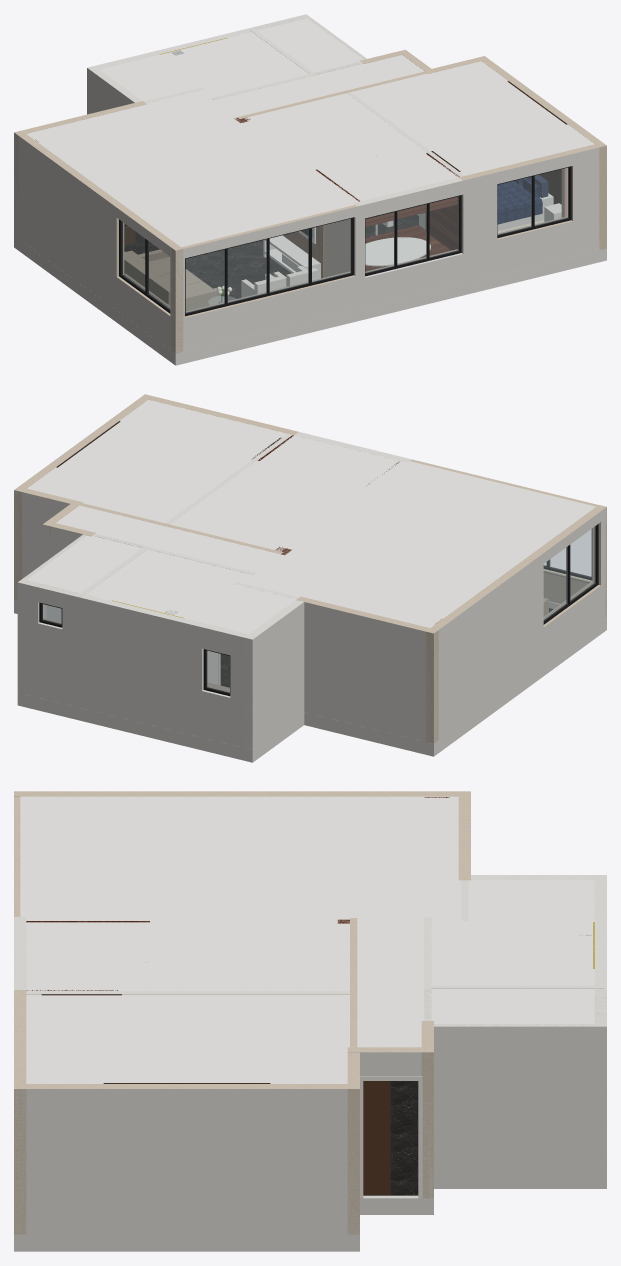
File: apartamento.glb
3 renders of one model, top to bottom at view 1: azimuth 30°, elevation 25°; view 2: azimuth 150°, elevation 25°; view 3: azimuth 270°, elevation 25°, orthographic. The views are drawn at different scales.
Parts seen in each view (by area): view 1: paredes, teto_sala, vidro_janelas, teto_suite, teto_spa, laje, teto_cozinha, esquadrias, teto_corredor, piso_sala, teto_banheiro, movel_sofa (+10 smaller); view 2: paredes, teto_sala, teto_suite, teto_spa, laje, teto_cozinha, teto_corredor, vidro_janelas, teto_banheiro, teto_lavanderia, esquadrias, rodapes; view 3: paredes, teto_sala, teto_suite, teto_spa, teto_cozinha, laje, teto_corredor, teto_banheiro, teto_lavanderia, piso_corredor, movel_porta_entrada, rodapes.
Boxes of the visible parts, x1=… form: paredes: x1=14, y1=14, x2=606, y2=353; teto_sala: x1=26, y1=90, x2=356, y2=247; vidro_janelas: x1=121, y1=168, x2=568, y2=312; teto_suite: x1=350, y1=61, x2=594, y2=175; teto_spa: x1=244, y1=93, x2=459, y2=202; laje: x1=14, y1=236, x2=606, y2=365; teto_cozinha: x1=156, y1=32, x2=308, y2=97; esquadrias: x1=119, y1=166, x2=571, y2=316; teto_corredor: x1=216, y1=55, x2=424, y2=116; piso_sala: x1=124, y1=223, x2=291, y2=300; teto_banheiro: x1=257, y1=18, x2=363, y2=72; movel_sofa: x1=124, y1=249, x2=220, y2=311; paredes: x1=14, y1=394, x2=606, y2=749; teto_sala: x1=239, y1=461, x2=595, y2=627; teto_suite: x1=27, y1=399, x2=287, y2=523; teto_spa: x1=170, y1=435, x2=402, y2=551; laje: x1=14, y1=600, x2=606, y2=762; teto_cozinha: x1=86, y1=549, x2=249, y2=619; teto_corredor: x1=56, y1=505, x2=277, y2=571; vidro_janelas: x1=42, y1=526, x2=595, y2=692; teto_banheiro: x1=27, y1=535, x2=141, y2=592; teto_lavanderia: x1=189, y1=584, x2=296, y2=633; esquadrias: x1=39, y1=524, x2=598, y2=696; rodapes: x1=43, y1=570, x2=592, y2=746; paredes: x1=14, y1=791, x2=606, y2=1234; teto_sala: x1=20, y1=796, x2=461, y2=919; teto_suite: x1=26, y1=994, x2=349, y2=1083; teto_spa: x1=26, y1=919, x2=349, y2=990; teto_cozinha: x1=431, y1=919, x2=594, y2=985; laje: x1=14, y1=1172, x2=606, y2=1251; teto_corredor: x1=357, y1=919, x2=423, y2=1047; teto_banheiro: x1=431, y1=989, x2=594, y2=1023; teto_lavanderia: x1=468, y1=880, x2=594, y2=919; piso_corredor: x1=363, y1=1081, x2=418, y2=1195; movel_porta_entrada: x1=363, y1=1081, x2=390, y2=1194; rodapes: x1=26, y1=1076, x2=422, y2=1231.
Size of the model in its own units: 11.4 by 2.91 by 9.6.
40 materials, 20 textured.
